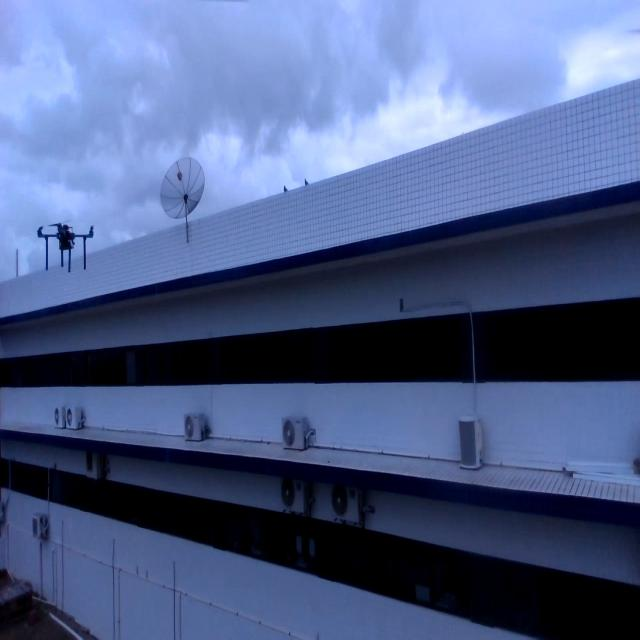-uav-: (28, 206, 105, 280)
